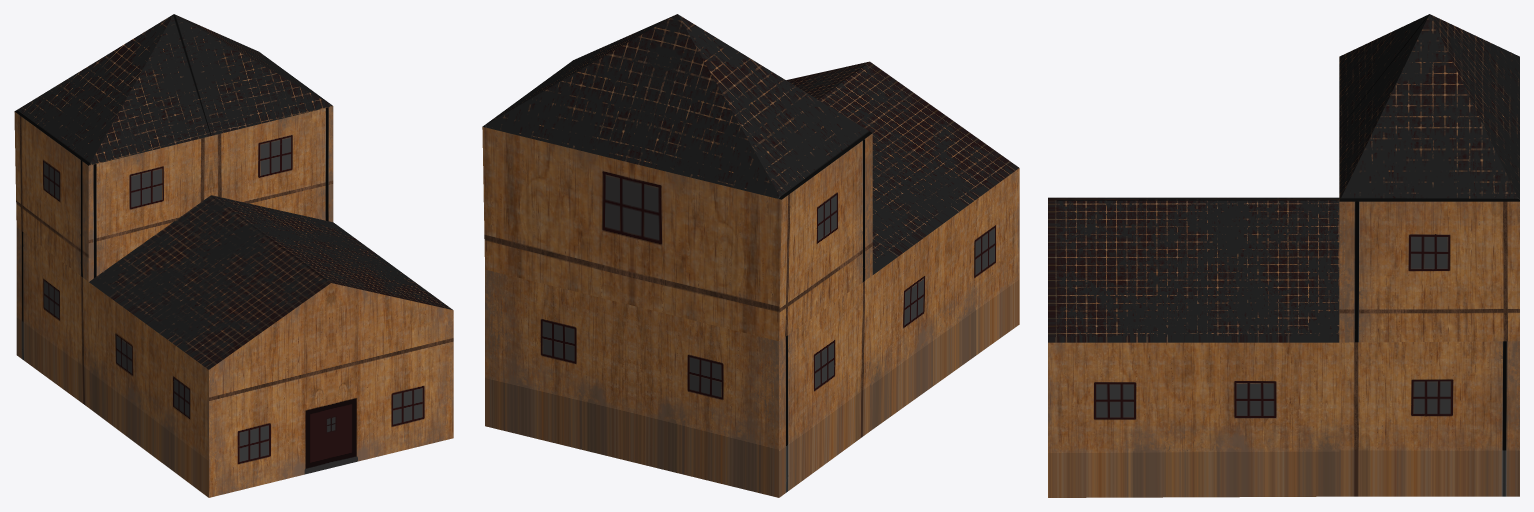
File: kirkko export.fbx
3 renders of one model, left to right at view 1: azimuth 30°, elevation 25°; view 2: azimuth 150°, elevation 25°; view 3: azimuth 270°, elevation 25°, orthographic. The views are drawn at different scales.
Visible parts, largest first — view 1: Kirkko; view 2: Kirkko; view 3: Kirkko.
Boxes of the visible parts, bbox=[...] form: Kirkko: bbox=[14, 14, 453, 497]; Kirkko: bbox=[482, 14, 1019, 497]; Kirkko: bbox=[1048, 14, 1519, 497].
Bounding box in the file's own units: 39986 × 52955 × 55021.
